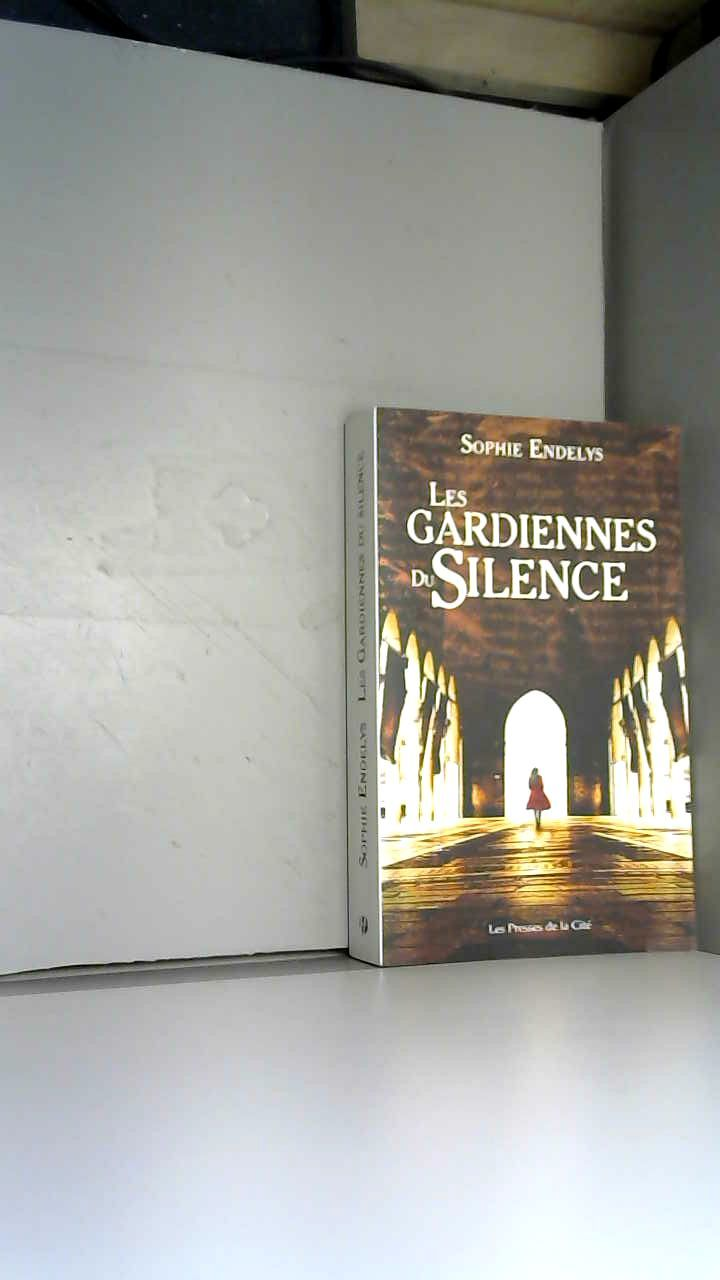book: (299, 364, 720, 1001)
